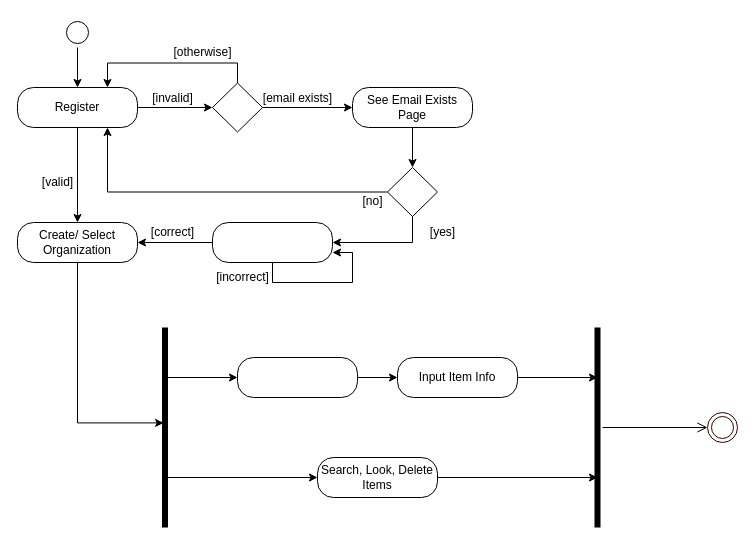
This 755x548 diagram has some shape labels left out. Each missing label, with the box of its shape:
Add Items: (236, 356, 358, 398)
Sign-In: (212, 222, 332, 262)
Sign-In?: (386, 166, 438, 216)
